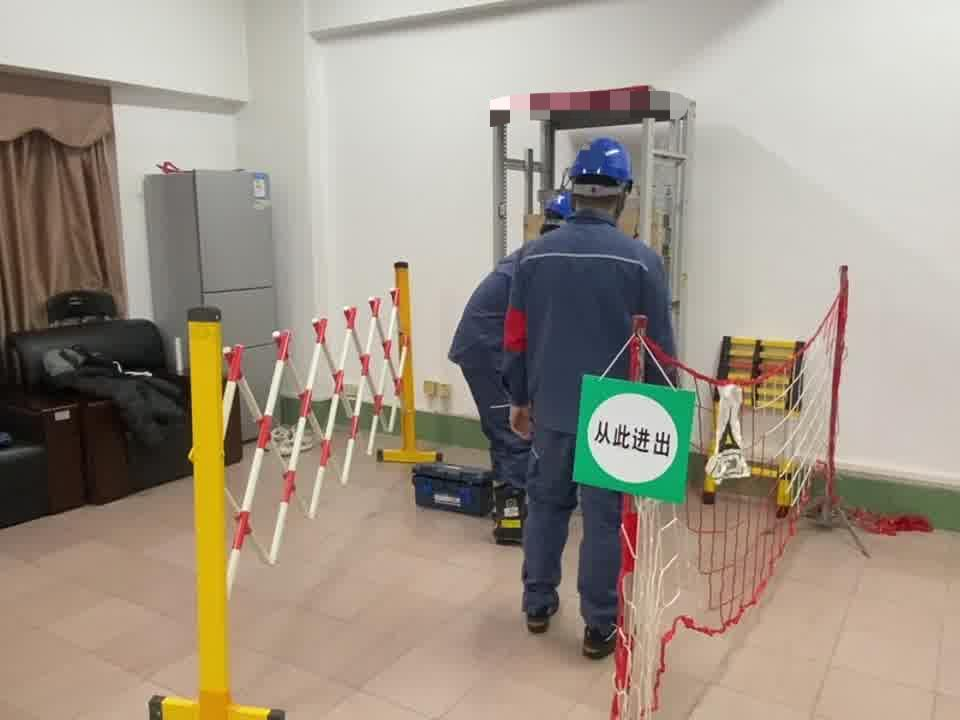halt: (570, 137, 638, 220)
